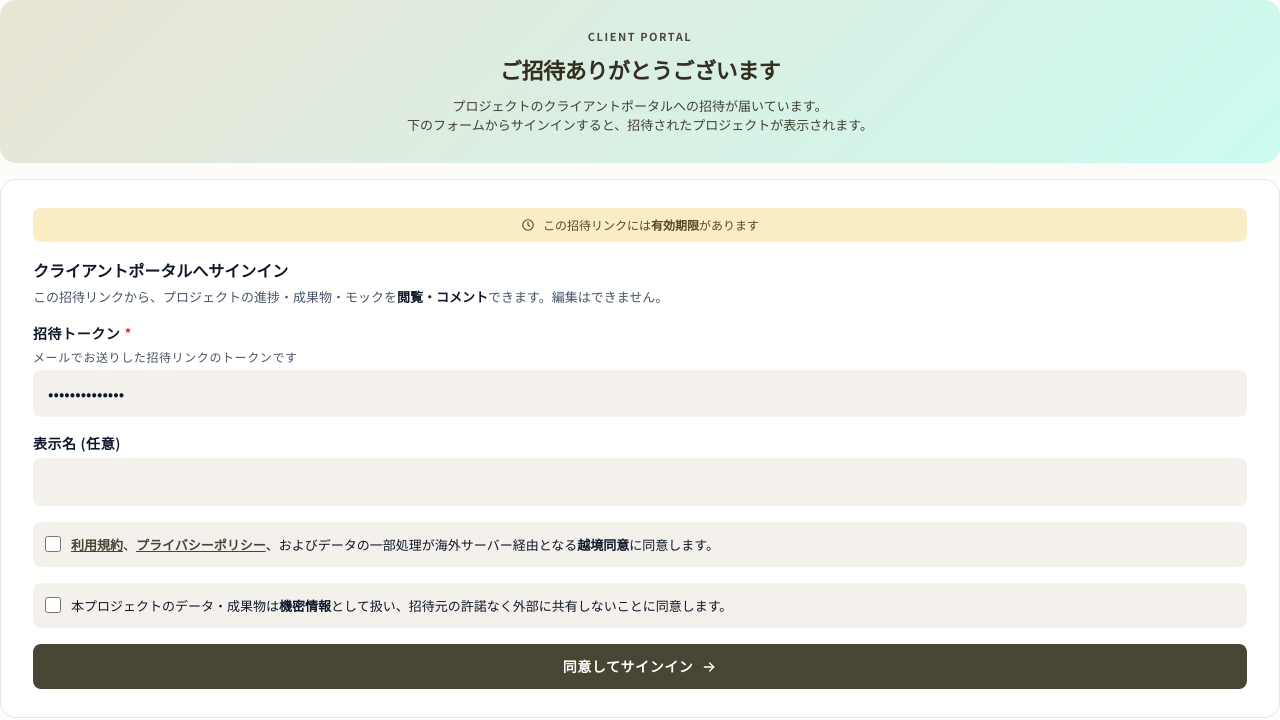
Test: S-L02 ClientSigninContainer (T-UC-21) › shows the API reason on 401 when it is a user message (GAP-251: 取り消し)
The width and height of the screenshot is (1280, 720).
Click the 1st checkbox.
click(53, 544)  # box [45,536,61,552]
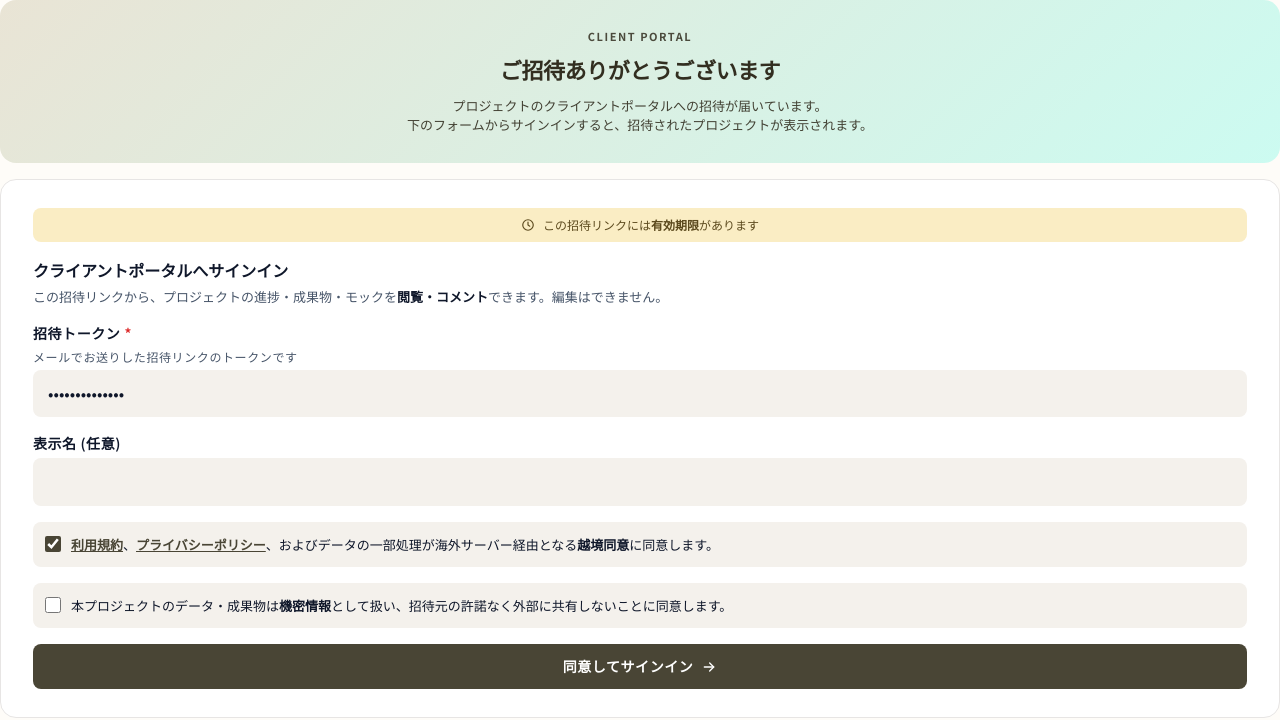
Click the 2nd checkbox.
click(53, 605)  # box [45,597,61,613]
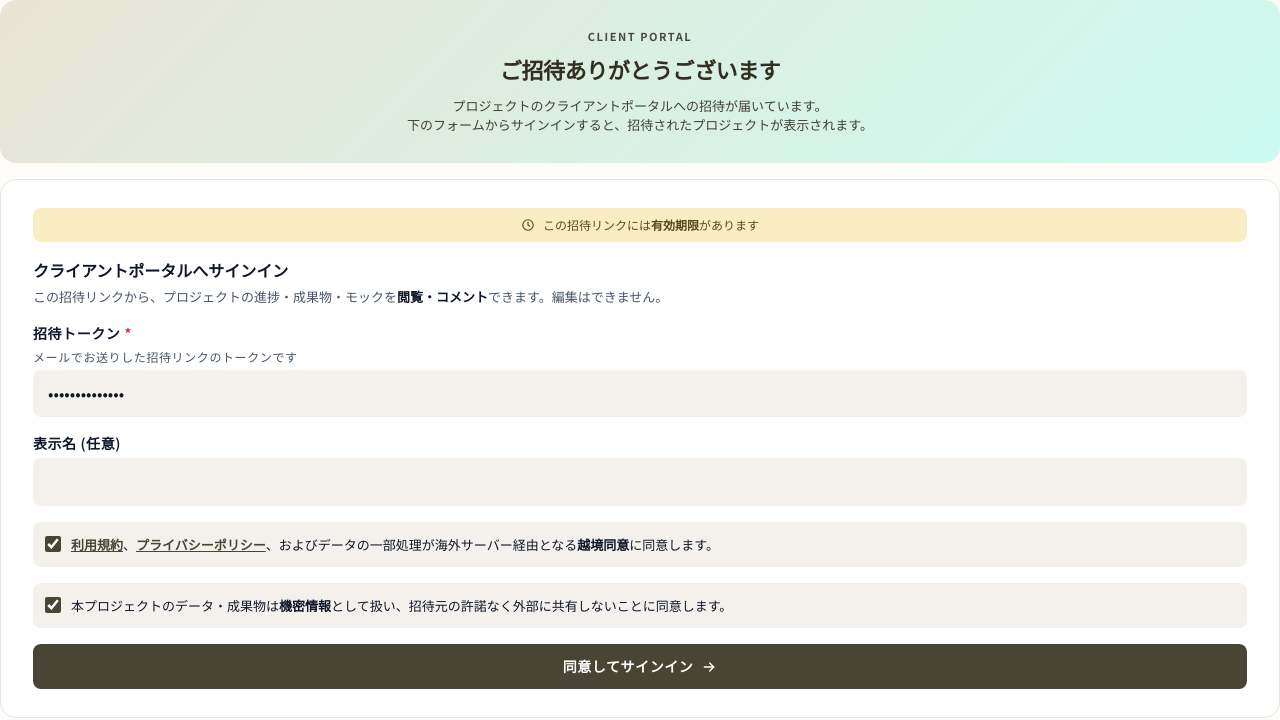
Click the button "同意してサインイン".
click(640, 667)  # box [33,644,1247,689]
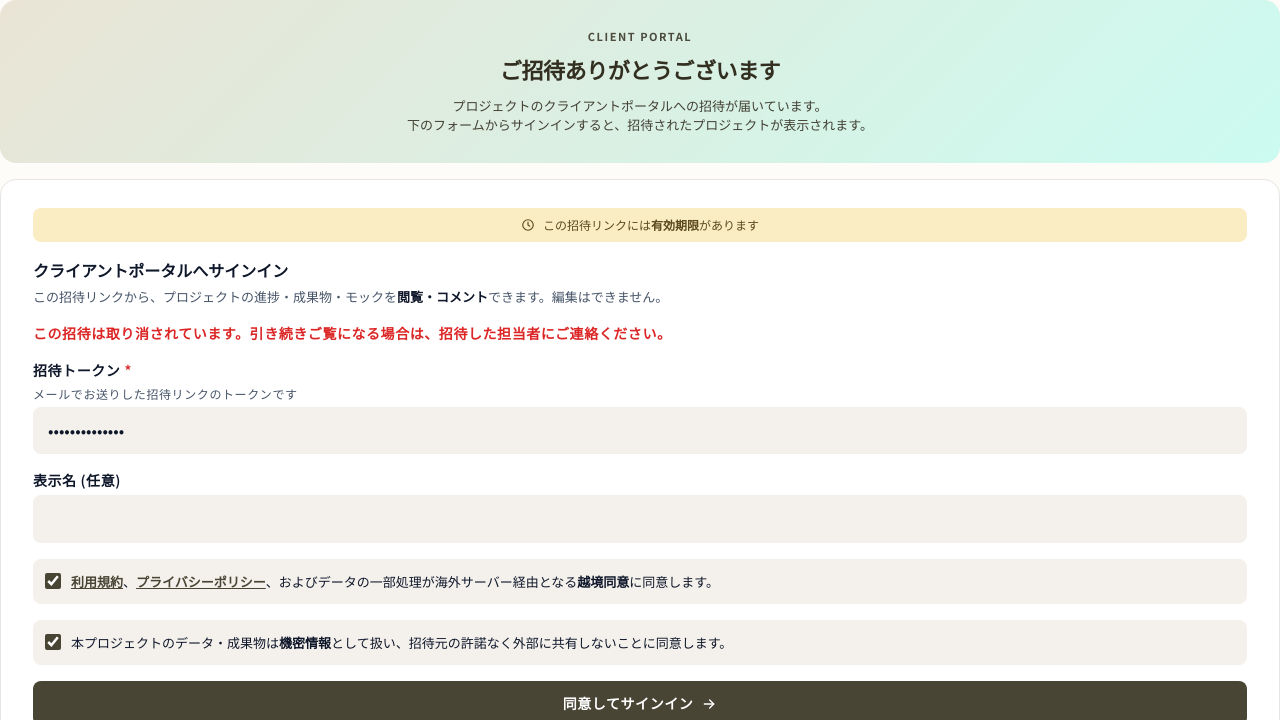
Check: the message does not show "招待トークンが無効です", box [33,323,672,343]
Check: the message shows "取り消されています", box [33,323,672,343]
